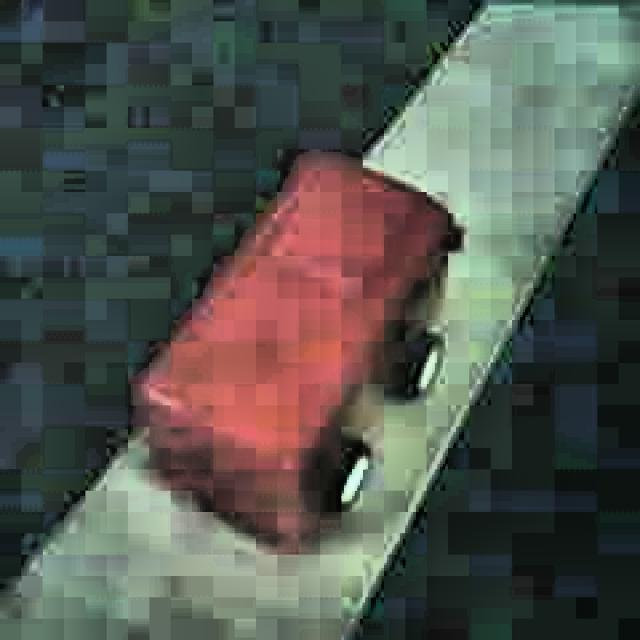bus: (136, 155, 463, 556)
